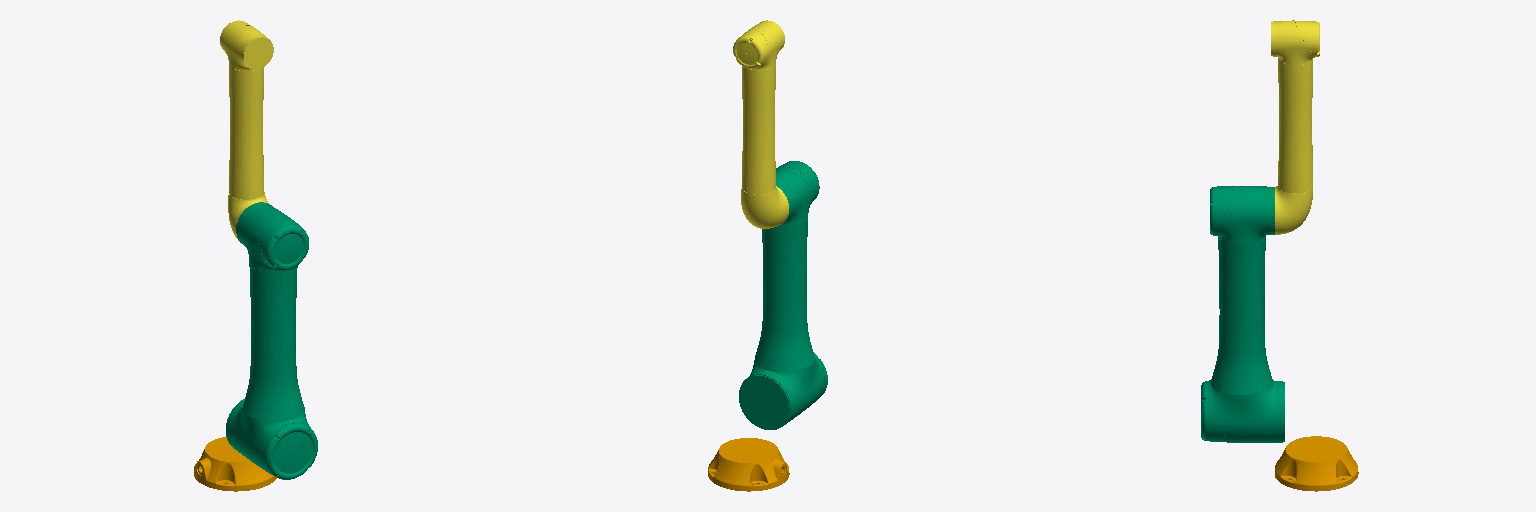
robot.urdf — tm14:
<?xml version="1.0" ?>
<!-- =================================================================================== -->
<!-- |    This document was autogenerated by xacro from tm14.urdf.xacro                | -->
<!-- |    EDITING THIS FILE BY HAND IS NOT RECOMMENDED                                 | -->
<!-- =================================================================================== -->
<robot name="tm14">
  <gazebo reference="link_1">
    <selfCollide>true</selfCollide>
  </gazebo>
  <gazebo reference="link_2">
    <selfCollide>true</selfCollide>
  </gazebo>
  <gazebo reference="link_3">
    <selfCollide>true</selfCollide>
  </gazebo>
  <gazebo reference="link_4">
    <selfCollide>true</selfCollide>
  </gazebo>
  <gazebo reference="link_5">
    <selfCollide>true</selfCollide>
  </gazebo>
  <gazebo reference="link_6">
    <selfCollide>true</selfCollide>
  </gazebo>
  <gazebo>
    <plugin filename="libgazebo_ros_control.so" name="gazebo_ros_control">
      <robotNamespace>/</robotNamespace>
      <robotSimType>gazebo_ros_control/DefaultRobotHWSim</robotSimType>
    </plugin>
  </gazebo>
  <transmission name="trans_1">
    <type>transmission_interface/SimpleTransmission</type>
    <joint name="joint_1">
      <hardwareInterface>hardware_interface/PositionJointInterface</hardwareInterface>
    </joint>
    <actuator name="motor_1">
      <mechanicalReduction>1</mechanicalReduction>
    </actuator>
  </transmission>
  <transmission name="trans_2">
    <type>transmission_interface/SimpleTransmission</type>
    <joint name="joint_2">
      <hardwareInterface>hardware_interface/PositionJointInterface</hardwareInterface>
    </joint>
    <actuator name="motor_2">
      <mechanicalReduction>1</mechanicalReduction>
    </actuator>
  </transmission>
  <transmission name="trans_3">
    <type>transmission_interface/SimpleTransmission</type>
    <joint name="joint_3">
      <hardwareInterface>hardware_interface/PositionJointInterface</hardwareInterface>
    </joint>
    <actuator name="motor_3">
      <mechanicalReduction>1</mechanicalReduction>
    </actuator>
  </transmission>
  <transmission name="trans_4">
    <type>transmission_interface/SimpleTransmission</type>
    <joint name="joint_4">
      <hardwareInterface>hardware_interface/PositionJointInterface</hardwareInterface>
    </joint>
    <actuator name="motor_4">
      <mechanicalReduction>1</mechanicalReduction>
    </actuator>
  </transmission>
  <transmission name="trans_5">
    <type>transmission_interface/SimpleTransmission</type>
    <joint name="joint_5">
      <hardwareInterface>hardware_interface/PositionJointInterface</hardwareInterface>
    </joint>
    <actuator name="motor_5">
      <mechanicalReduction>1</mechanicalReduction>
    </actuator>
  </transmission>
  <transmission name="trans_6">
    <type>transmission_interface/SimpleTransmission</type>
    <joint name="joint_6">
      <hardwareInterface>hardware_interface/PositionJointInterface</hardwareInterface>
    </joint>
    <actuator name="motor_6">
      <mechanicalReduction>1</mechanicalReduction>
    </actuator>
  </transmission>
  <material name="lightgrey">
    <color rgba="0.5 0.5 0.5 1.0"/>
  </material>
  <material name="grey">
    <color rgba="0.75 0.75 0.75 1.0"/>
  </material>
  <material name="white">
    <color rgba="0.95 0.95 0.95 1.0"/>
  </material>
  <material name="red">
    <color rgba="0.95 0.0 0.0 1.0"/>
  </material>
  <material name="orange">
    <color rgba="1.0 0.5 0.0 1.0"/>
  </material>
  <material name="yellow">
    <color rgba="1.0 1.0 0.0 1.0"/>
  </material>
  <material name="green">
    <color rgba="0.0 1.0 0.0 1.0"/>
  </material>
  <material name="blue">
    <color rgba="0.0 0.0 1.0 1.0"/>
  </material>
  <material name="indigo">
    <color rgba="0.3 0.3 0.6 1.0"/>
  </material>
  <material name="violet">
    <color rgba="0.6 0.0 1.0 1.0"/>
  </material>
  <material name="black">
    <color rgba="0.0 0.0 0.0 1.0"/>
  </material>
  <material name="darkolive">
    <color rgba="0.3 0.3 0.25 1.0"/>
  </material>
  <!--LinkDescription-->
  <link name="link_0">
    <visual>
      <geometry>
        <mesh filename="package://tm_description/meshes/tm12/visual/tm12-base.obj"/>
      </geometry>
      <material name="none"/>
    </visual>
    <collision>
      <geometry>
        <mesh filename="package://tm_description/meshes/tm12/collision/tm12-base_c.stl"/>
      </geometry>
    </collision>
    <inertial>
      <mass value="1.0"/>
      <origin rpy="0.000000 0.000000 0.000000" xyz="0.000000 0.000000 0.000000"/>
      <inertia ixx="0.00110833289" ixy="0.0" ixz="0.0" iyy="0.00110833289" iyz="0.0" izz="0.0018"/>
    </inertial>
  </link>
  <joint name="joint_1" type="revolute">
    <parent link="link_0"/>
    <child link="link_1"/>
    <origin rpy="0.000000 -0.000000 0.000000" xyz="0.000000 0.000000 0.165200"/>
    <axis xyz="0 0 1"/>
    <!--limit-->
    <limit effort="353" lower="-4.71238898038469" upper="4.71238898038469" velocity="2.0943951023931953"/>
    <dynamics damping="0.0" friction="0.0"/>
  </joint>
  <link name="link_1">
    <visual>
      <geometry>
        <mesh filename="package://tm_description/meshes/tm12/visual/tmr_750w_01.obj"/>
      </geometry>
      <material name="none"/>
    </visual>
    <collision>
      <geometry>
        <mesh filename="package://tm_description/meshes/tm12/collision/tmr_750w_01_c.stl"/>
      </geometry>
    </collision>
    <inertial>
      <origin rpy="0.000000 0.000000 0.000000" xyz="0.000000 0.000000 0.000000"/>
      <mass value="7.6"/>
      <inertia ixx="0.020289334" ixy="0.000000" ixz="0.000000" iyy="0.020289334" iyz="0.000000" izz="0.021396270999999998"/>
    </inertial>
  </link>
  <joint name="joint_2" type="revolute">
    <parent link="link_1"/>
    <child link="link_2"/>
    <origin rpy="-1.570796 -1.570796 0.000000" xyz="0.000000 0.000000 0.000000"/>
    <axis xyz="0 0 1"/>
    <!--limit-->
    <limit effort="353" lower="-3.141592653589793" upper="3.141592653589793" velocity="2.0943951023931953"/>
    <dynamics damping="0.0" friction="0.0"/>
  </joint>
  <link name="link_2">
    <visual>
      <geometry>
        <mesh filename="package://tm_description/meshes/tm14/visual/tm14_arm1.obj"/>
      </geometry>
      <material name="none"/>
    </visual>
    <collision>
      <geometry>
        <mesh filename="package://tm_description/meshes/tm14/collision/tm14_arm1_c.stl"/>
      </geometry>
    </collision>
    <inertial>
      <origin rpy="0.000000 0.000000 0.000000" xyz="0.000000 0.000000 0.000000"/>
      <mass value="14.0239"/>
      <inertia ixx="0.071505715" ixy="0.000000" ixz="0.000000" iyy="1.1758788999999998" iyz="0.000000" izz="1.2033932999999999"/>
    </inertial>
  </link>
  <joint name="joint_3" type="revolute">
    <parent link="link_2"/>
    <child link="link_3"/>
    <origin rpy="0.000000 -0.000000 0.000000" xyz="0.536100 0.000000 0.000000"/>
    <axis xyz="0 0 1"/>
    <!--limit-->
    <limit effort="157" lower="-2.8448866807507573" upper="2.8448866807507573" velocity="3.141592653589793"/>
    <dynamics damping="0.0" friction="0.0"/>
  </joint>
  <link name="link_3">
    <visual>
      <geometry>
        <mesh filename="package://tm_description/meshes/tm14/visual/tm14_arm2.obj"/>
      </geometry>
      <material name="none"/>
    </visual>
    <collision>
      <geometry>
        <mesh filename="package://tm_description/meshes/tm14/collision/tm14_arm2_c.stl"/>
      </geometry>
    </collision>
    <inertial>
      <origin rpy="0.000000 0.000000 0.000000" xyz="0.000000 0.000000 0.000000"/>
      <mass value="3.3577"/>
      <inertia ixx="0.009755469" ixy="0.000000" ixz="0.000000" iyy="0.16334719" iyz="0.000000" izz="0.16656678"/>
    </inertial>
  </link>
  <joint name="joint_4" type="revolute">
    <parent link="link_3"/>
    <child link="link_4"/>
    <origin rpy="0.000000 -0.000000 1.570796" xyz="0.457900 0.000000 -0.156300"/>
    <axis xyz="0 0 1"/>
    <!--limit-->
    <limit effort="54" lower="-3.141592653589793" upper="3.141592653589793" velocity="2.6179938779914944"/>
    <dynamics damping="0.0" friction="0.0"/>
  </joint>
  <link name="link_4">
    <visual>
      <geometry>
        <mesh filename="package://tm_description/meshes/tm5-900/visual/tmr_100w_01.obj"/>
      </geometry>
      <material name="none"/>
    </visual>
    <collision>
      <geometry>
        <mesh filename="package://tm_description/meshes/tm5-900/collision/tmr_100w_01_c.stl"/>
      </geometry>
    </collision>
    <inertial>
      <origin rpy="0.000000 0.000000 0.000000" xyz="0.000000 0.000000 0.000000"/>
      <mass value="1.576"/>
      <inertia ixx="0.002058405" ixy="0.000000" ixz="0.000000" iyy="0.0025630790000000002" iyz="0.000000" izz="0.00264321"/>
    </inertial>
  </link>
  <joint name="joint_5" type="revolute">
    <parent link="link_4"/>
    <child link="link_5"/>
    <origin rpy="1.570796 -0.000000 0.000000" xyz="0.000000 -0.106000 0.000000"/>
    <axis xyz="0 0 1"/>
    <!--limit-->
    <limit effort="54" lower="-3.141592653589793" upper="3.141592653589793" velocity="2.6179938779914944"/>
    <dynamics damping="0.0" friction="0.0"/>
  </joint>
  <link name="link_5">
    <visual>
      <geometry>
        <mesh filename="package://tm_description/meshes/tm5-900/visual/tmr_100w_02.obj"/>
      </geometry>
      <material name="none"/>
    </visual>
    <collision>
      <geometry>
        <mesh filename="package://tm_description/meshes/tm5-900/collision/tmr_100w_02_c.stl"/>
      </geometry>
    </collision>
    <inertial>
      <origin rpy="0.000000 0.000000 0.000000" xyz="0.000000 0.000000 0.000000"/>
      <mass value="1.576"/>
      <inertia ixx="0.002058405" ixy="0.000000" ixz="0.000000" iyy="0.0025630790000000002" iyz="0.000000" izz="0.00264321"/>
    </inertial>
  </link>
  <joint name="joint_6" type="revolute">
    <parent link="link_5"/>
    <child link="link_6"/>
    <origin rpy="1.570796 -0.000000 0.000000" xyz="0.000000 -0.113150 0.000000"/>
    <axis xyz="0 0 1"/>
    <!--limit-->
    <limit effort="54" lower="-4.71238898038469" upper="4.71238898038469" velocity="3.141592653589793"/>
    <dynamics damping="0.0" friction="0.0"/>
  </joint>
  <link name="link_6">
    <visual>
      <geometry>
        <mesh filename="package://tm_description/meshes/tm5-900/visual/tmr_ee.obj"/>
      </geometry>
      <material name="none"/>
    </visual>
    <collision>
      <geometry>
        <mesh filename="package://tm_description/meshes/tm5-900/collision/tmr_ee_c.stl"/>
      </geometry>
    </collision>
    <inertial>
      <origin rpy="0.000000 0.000000 0.000000" xyz="0.000000 0.000000 0.000000"/>
      <mass value="0.4"/>
      <inertia ixx="0.00047664299999999996" ixy="0.000000" ixz="0.000000" iyy="0.0008515759999999999" iyz="0.000000" izz="0.00095969"/>
    </inertial>
  </link>
  <link name="base"/>
  <joint name="base_fixed_joint" type="fixed">
    <parent link="base"/>
    <child link="link_0"/>
    <origin rpy="0.000000 0.000000 0.000000" xyz="0.000000 0.000000 0.000000"/>
  </joint>
  <link name="flange"/>
  <joint name="flange_fixed_joint" type="fixed">
    <parent link="link_6"/>
    <child link="flange"/>
    <origin rpy="0.000000 0.000000 0.000000" xyz="0.000000 0.000000 0.000000"/>
  </joint>
  <!--LinkDescription-->
</robot>

--- Render facts (derived) ---
Views: 3 orthographic renders of the robot side by side, from view 1: azimuth 30°, elevation 25°; view 2: azimuth 150°, elevation 25°; view 3: azimuth 270°, elevation 25°.
Robot: tm14 — 9 links, 8 joints (6 revolute, 2 fixed); root link base; default pose: every joint at zero.
Visible links, largest first — view 1: link_2, link_3, link_0; view 2: link_2, link_3, link_0; view 3: link_2, link_3, link_0.
Boxes of the visible links, box(x1,y1,x2,y2) form: link_2: box(226, 202, 317, 479); link_3: box(220, 20, 273, 243); link_0: box(194, 437, 276, 491); link_2: box(739, 161, 827, 429); link_3: box(733, 20, 788, 228); link_0: box(708, 438, 789, 491); link_2: box(1201, 186, 1284, 442); link_3: box(1271, 20, 1319, 234); link_0: box(1275, 436, 1358, 491).
Size in the robot's own frame: 0.203 by 0.3795 by 1.2 metres.
3 mesh visuals loaded from 7 distinct referenced files (3 OBJ); not drawn: 4 (reference not matched to a file when rendering).